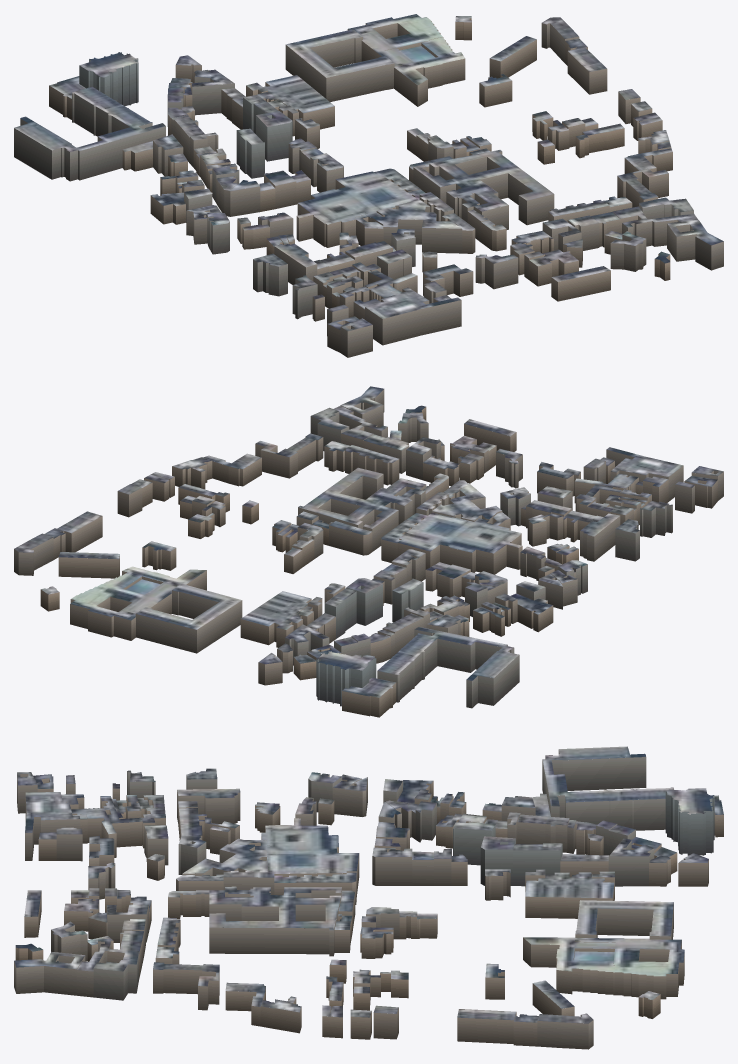
3 renders of one model, top to bottom at view 1: azimuth 30°, elevation 25°; view 2: azimuth 150°, elevation 25°; view 3: azimuth 270°, elevation 25°, orthographic. The views are drawn at different scales.
Bounding box in the file's own units: 445 × 31.99 × 491.
2 materials, 2 textured.
